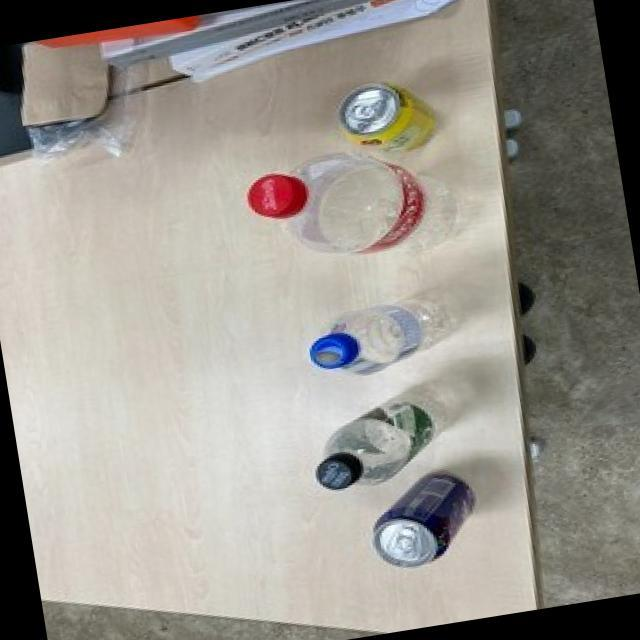good: (236, 130, 481, 281), (295, 371, 500, 498), (297, 286, 483, 389), (357, 468, 496, 580), (325, 70, 448, 164)
